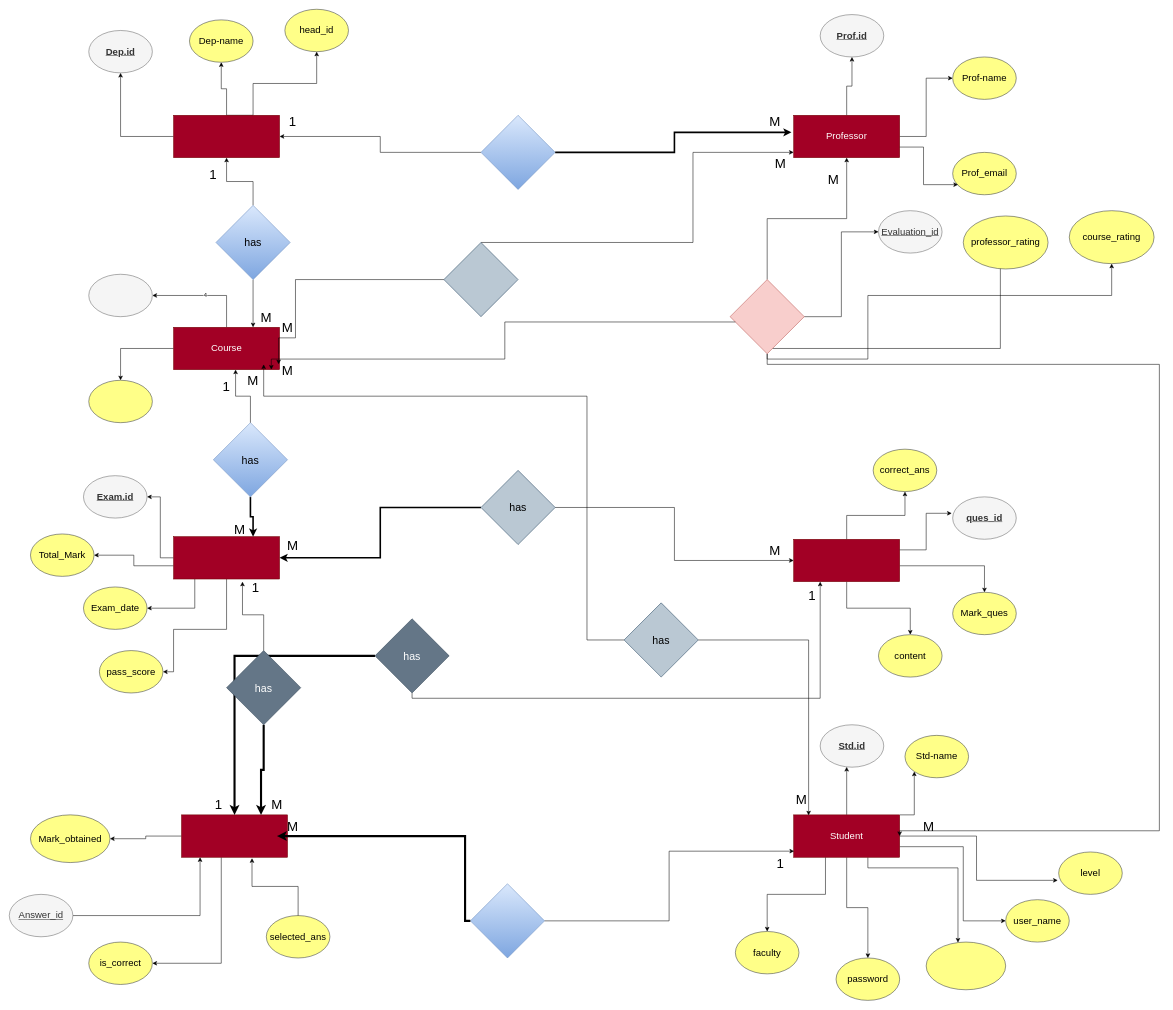
Some shapes in this 1173 by 1010 pixel diagram are drawn without their labels. Here are the shapes that lost their labels. From the top down, the centre of each, then its label:
the point at 226,136: Department
the point at 517,152: work
the point at 120,295: Course.id
the point at 480,279: teach
the point at 767,316: Evalute
the point at 120,401: Course-name
the point at 226,557: Exam
the point at 846,560: Question
the point at 234,835: Answer
the point at 507,920: do
the point at 966,966: scientifc_degree
